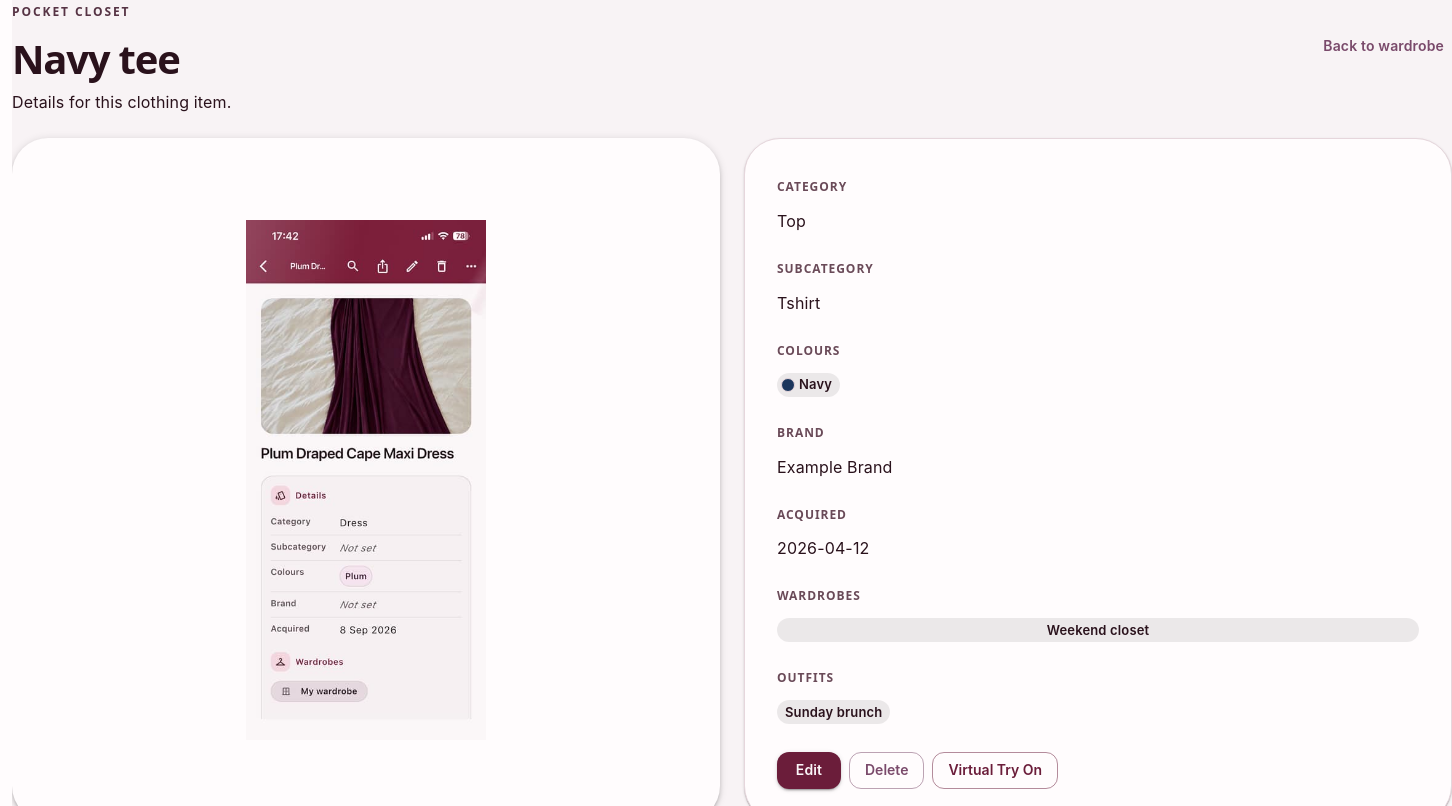
Test: ItemDetailPage › maps 403 ENTITLEMENT_AI_REQUIRED on /me to a Premium Virtual Try On prompt
Click the button with aria-label "Virtual Try On this clothing item": (995, 771) [932,752,1058,789]
(page scrolled)
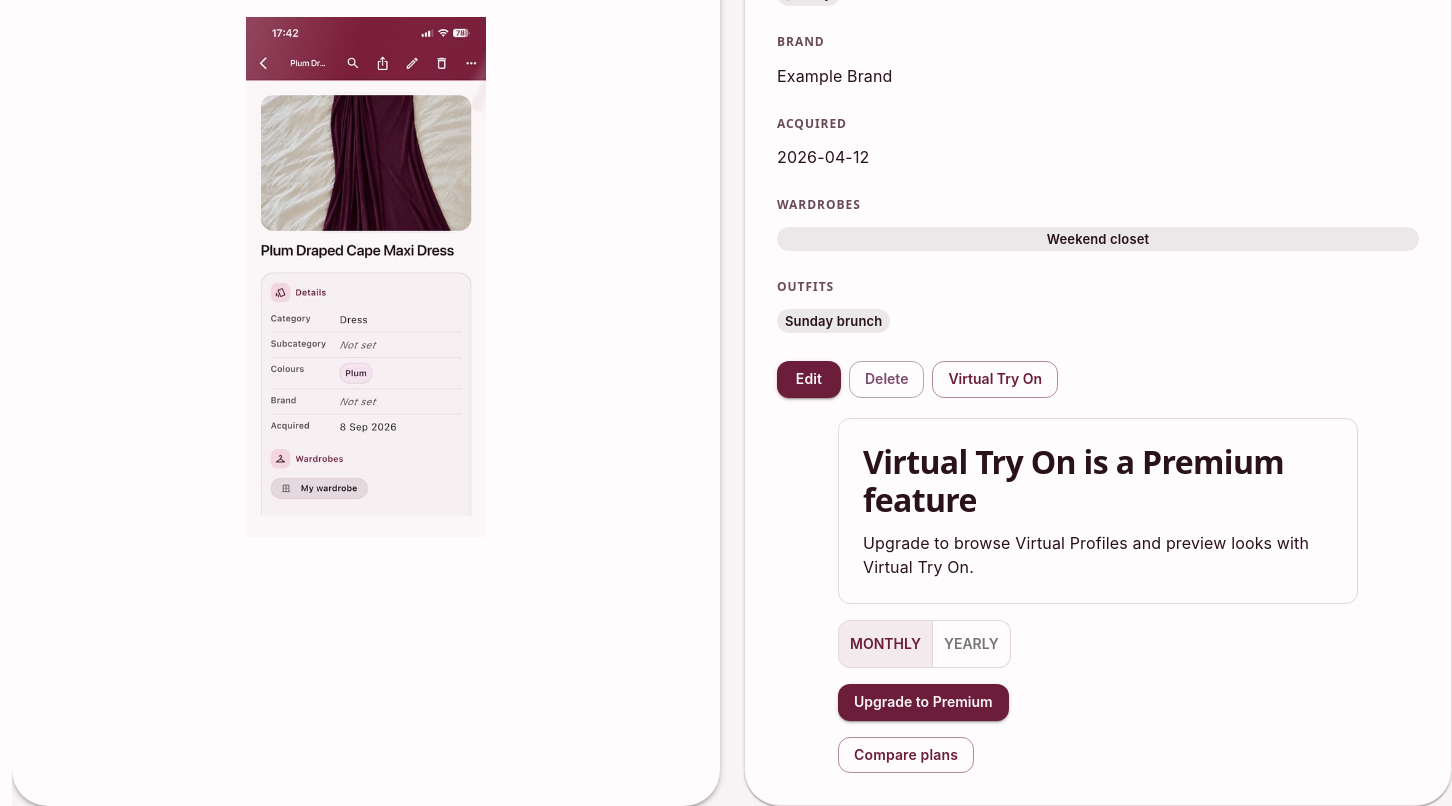
Expected: the heading "Virtual Try On is a Premium feature" is shown, [863,443,1333,520]
